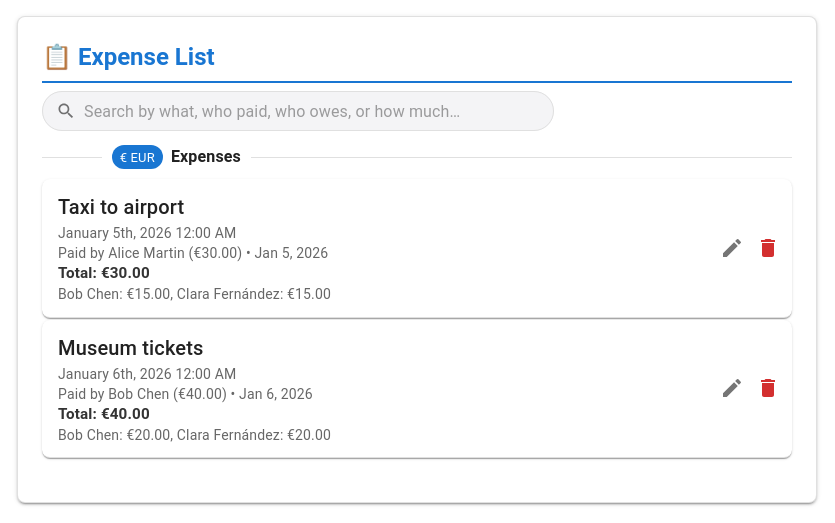
Test: ExpenseList search › filters by payer name
The width and height of the screenshot is (835, 523).
Click the field named "Search expenses" at coordinates (296, 111), box x1=84 y1=91 x2=508 y2=131
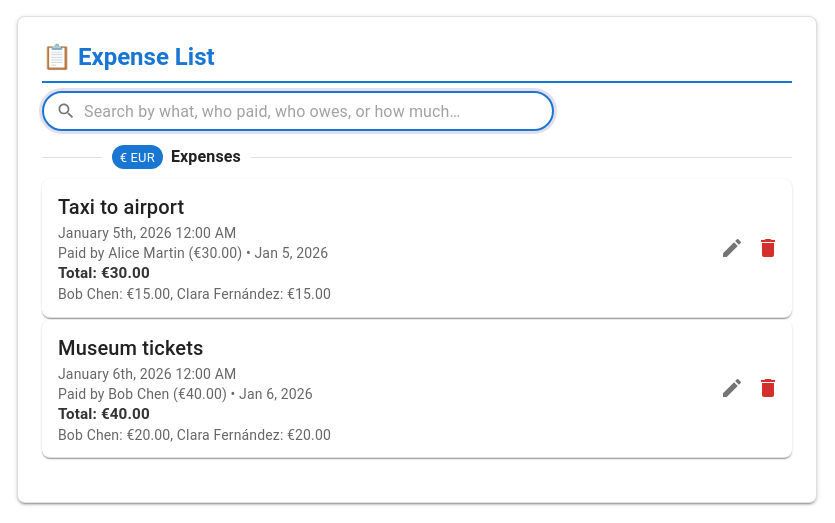
Type keys "alice"
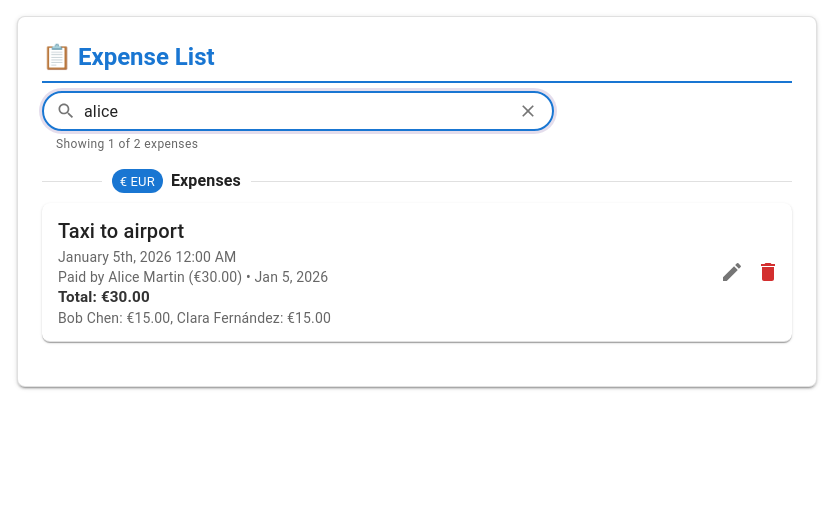
Check: the heading "Taxi to airport" is shown, box x1=58 y1=219 x2=184 y2=243
Check: the heading "Museum tickets" is gone
